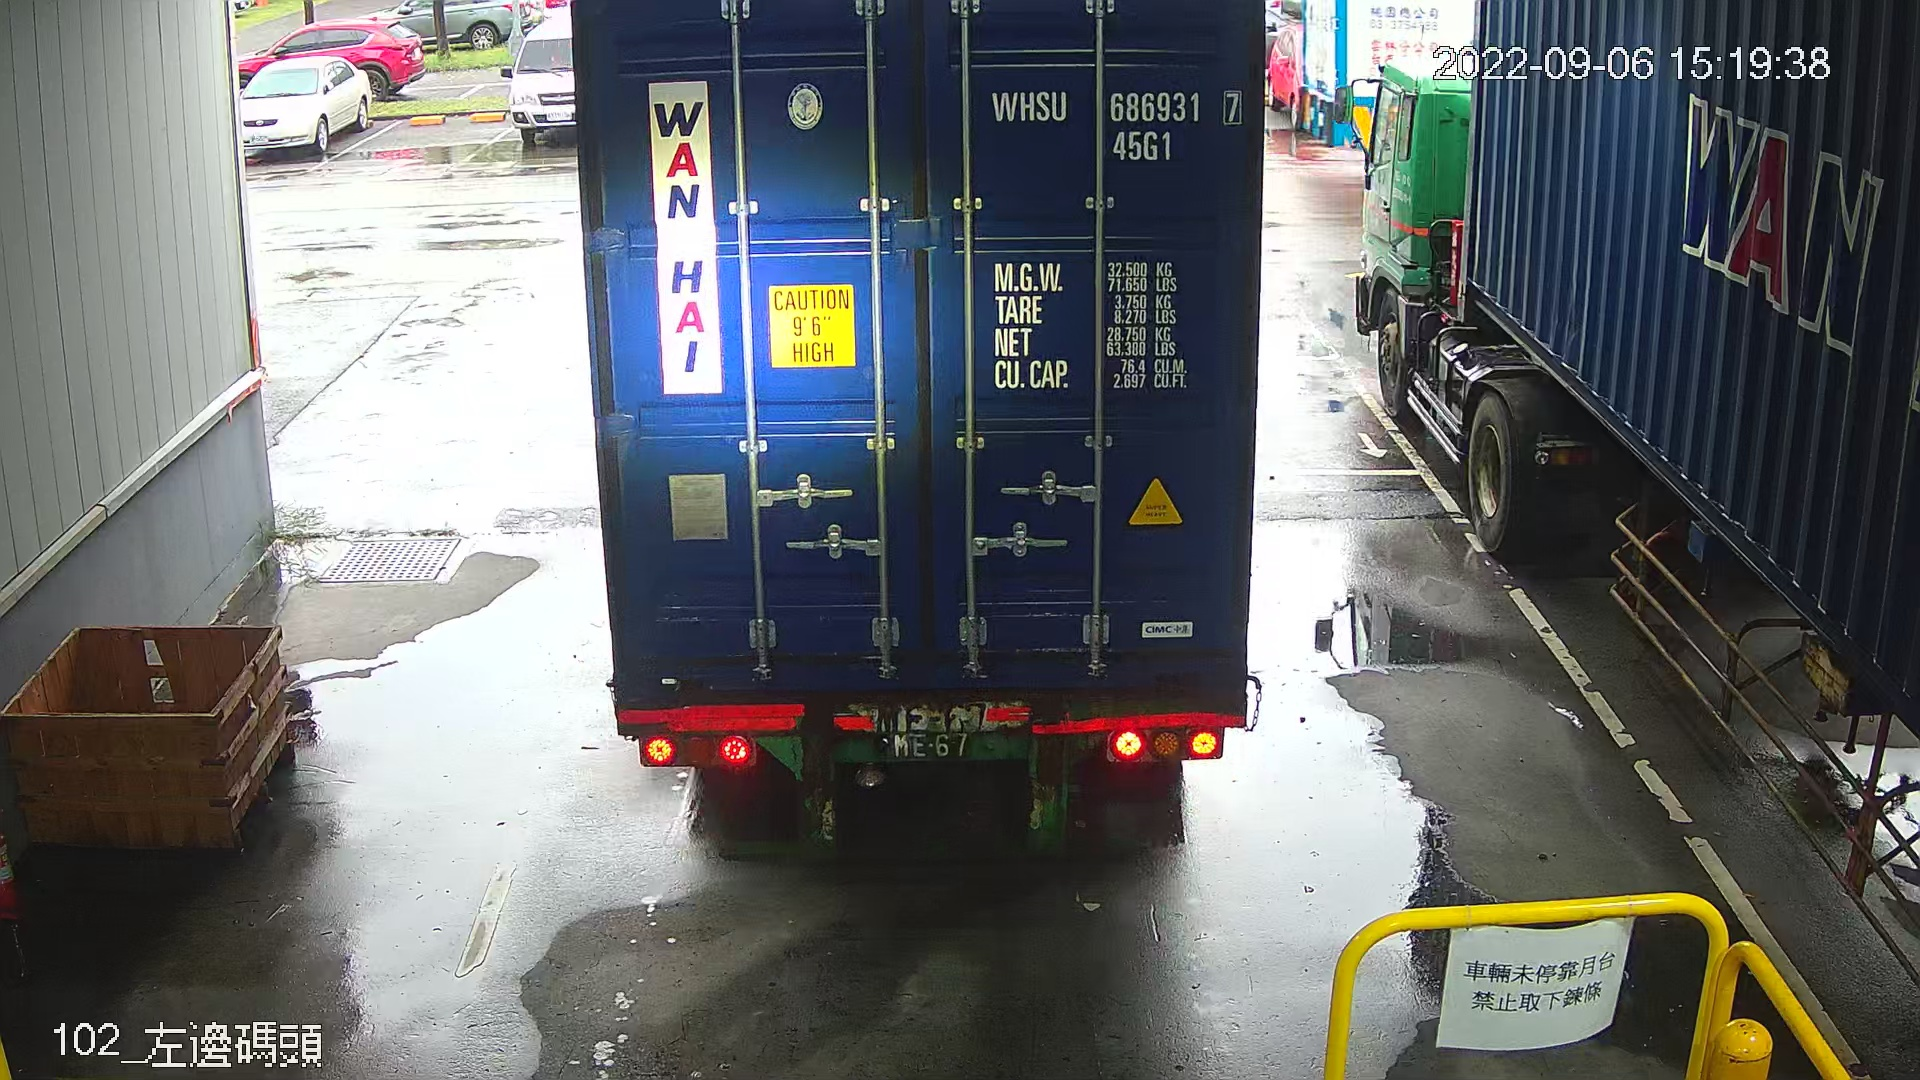container: (978, 79, 1254, 166)
